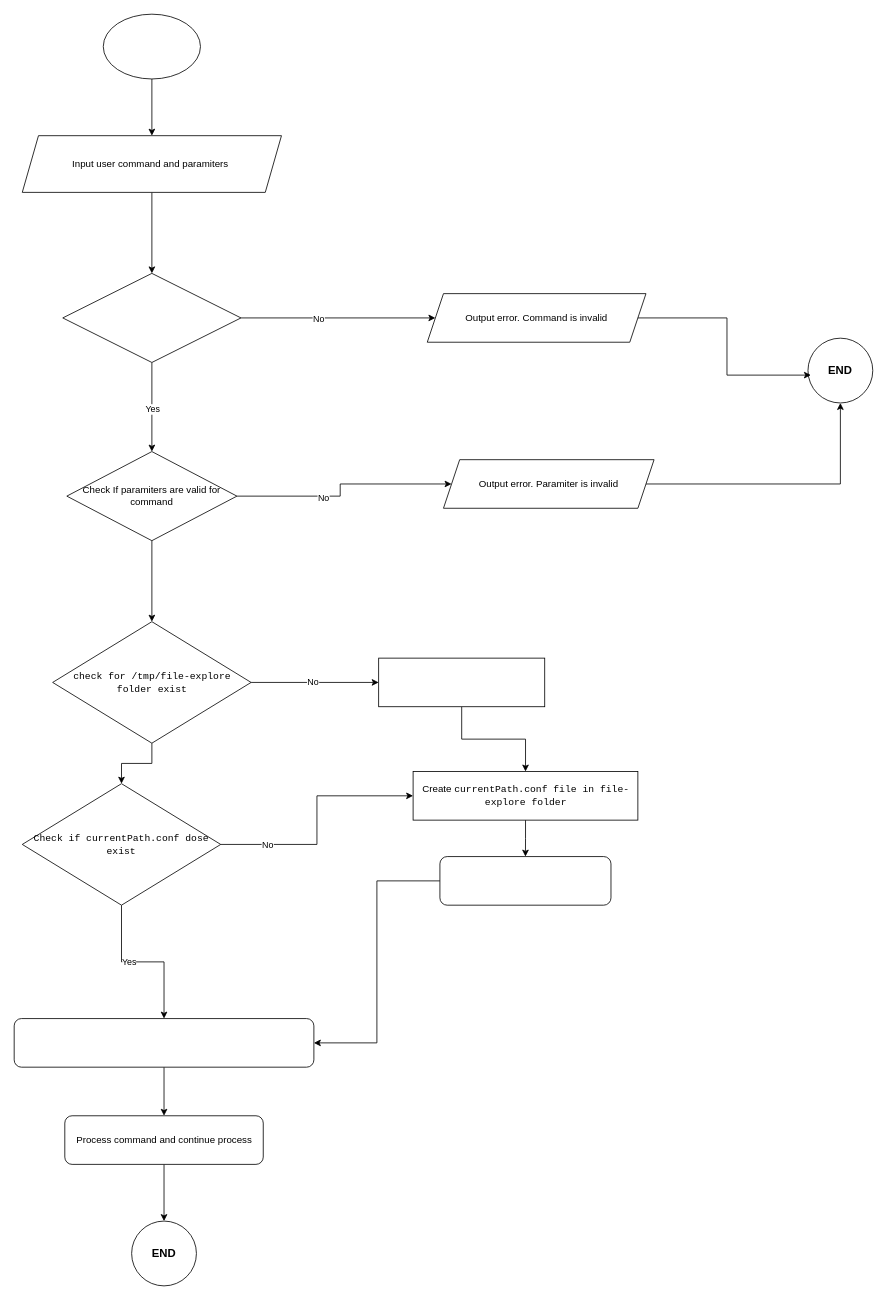
The diagram is 887 pixels wide and 1300 high, and some of its shapes have lost their labels. Here are the shapes that lost their labels. From the top down, the centre of each, then its label:
(x=151, y=46): Start
(x=151, y=317): Check If input command it valid
(x=461, y=682): Create /tmp/file-explore folder
(x=525, y=880): Add user's home folder as path
(x=163, y=1042): Read path from /tmp/file-explore/currentPath.conf
